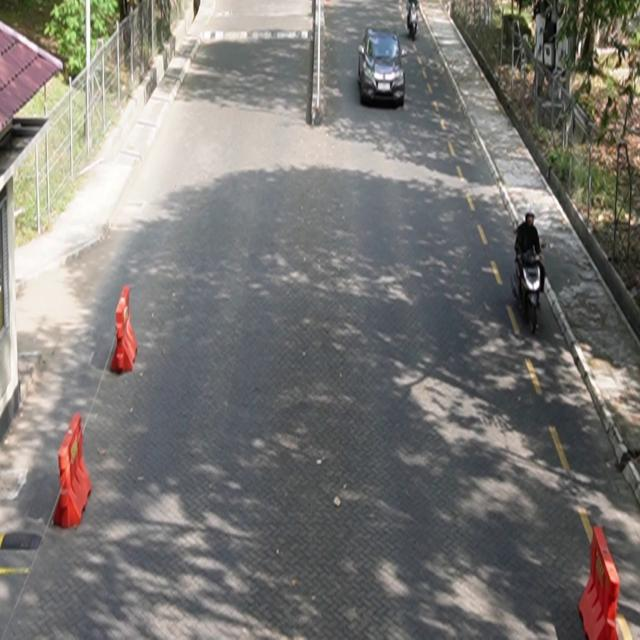car: (359, 27, 408, 109)
